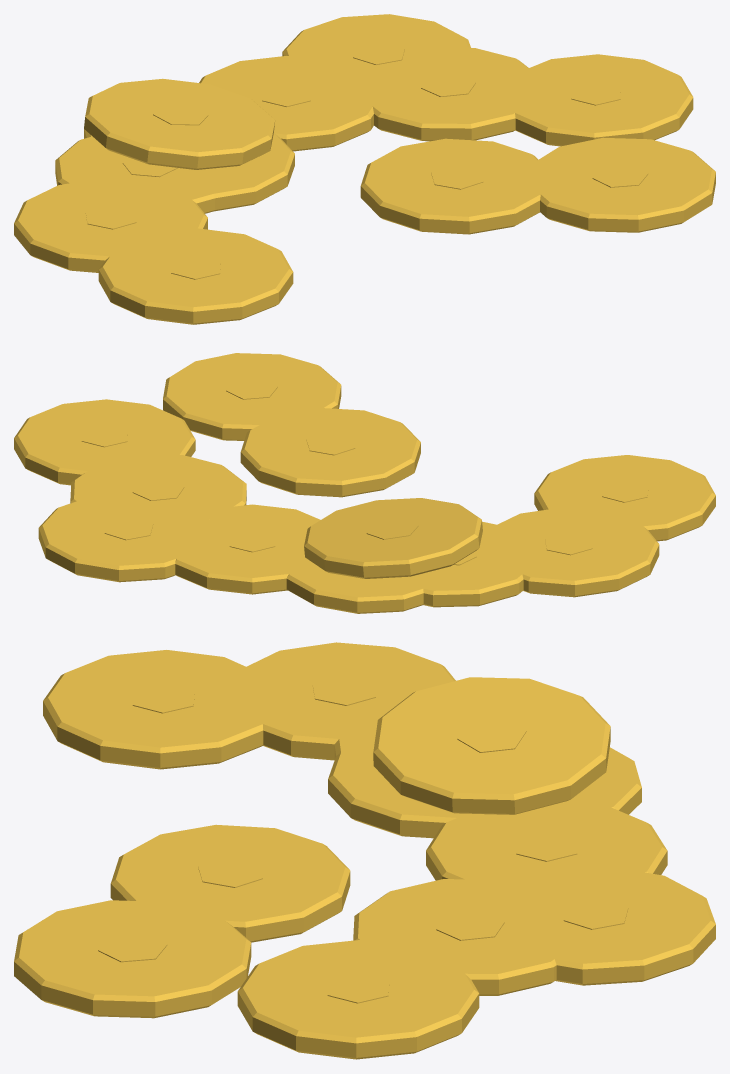
File: gold_small.glb
3 renders of one model, top to bottom at view 1: azimuth 30°, elevation 25°; view 2: azimuth 150°, elevation 25°; view 3: azimuth 270°, elevation 25°, orthographic. The views are drawn at different scales.
Visible parts, largest first — view 1: Gold_Small_Gold; view 2: Gold_Small_Gold; view 3: Gold_Small_Gold.
Part boxes in pixels (left/top/right/bottom): Gold_Small_Gold: left=14, top=14, right=715, bottom=324; Gold_Small_Gold: left=14, top=353, right=715, bottom=613; Gold_Small_Gold: left=14, top=642, right=715, bottom=1059.
Bounding box in the file's own units: 0.0939 × 0.0074 × 0.0697.
